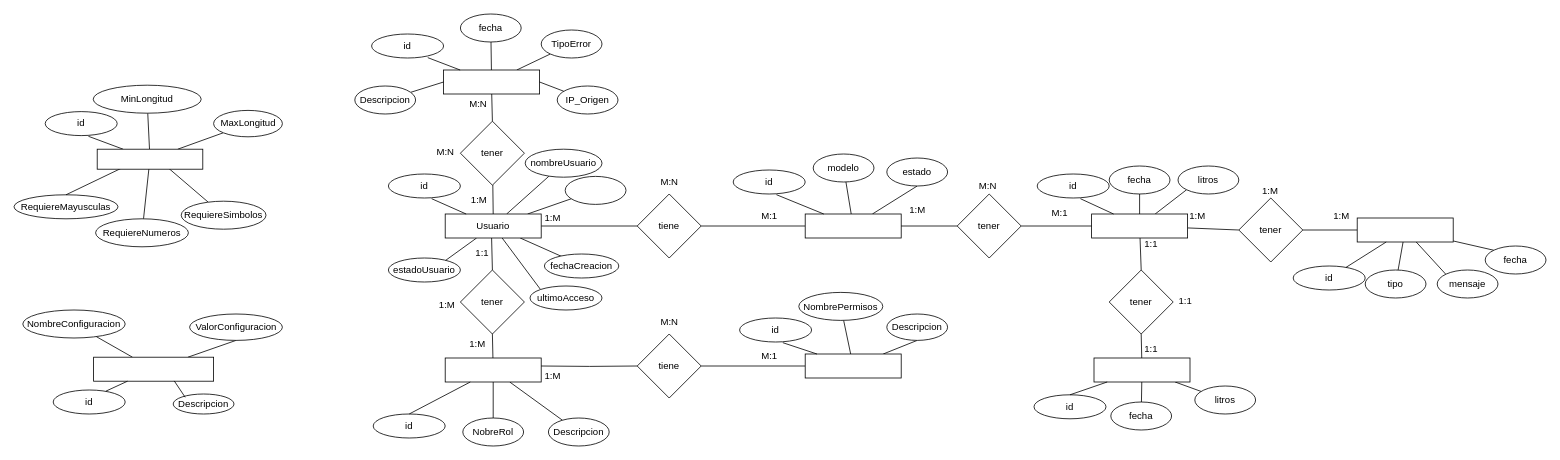
Image size: 1560x460. Some labels were removed from this diagram. The centre of each missing label's shape, as x and y in pixels:
Configuracion_Seguridad: [153,368]
Consumo: [1139,225]
contraseña: [595,190]
Historial: [1141,369]
Log_Errores: [491,81]
Medidor: [852,225]
Notificaciones: [1404,229]
Permisos: [852,365]
Pliticas_Contraseñas: [149,158]
Roles: [492,369]
